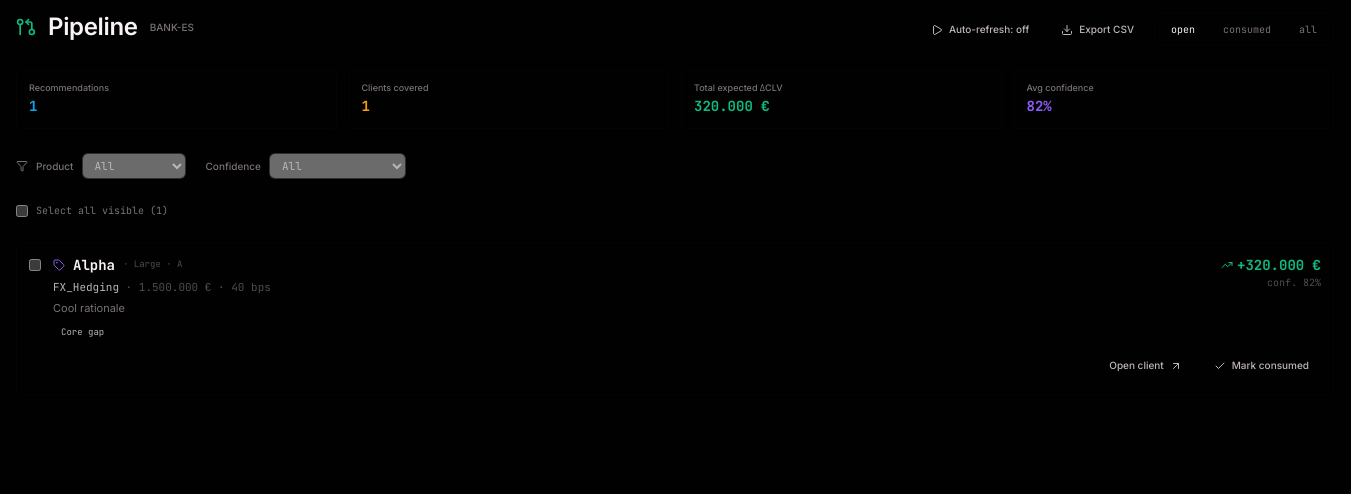
Test: PipelineView › shows bulk action bar when a row is selected, hides it when cleared
The width and height of the screenshot is (1351, 494).
Expected: the text "Alpha" is shown, [73,255,115,275]
Click the checkbox with test id "pipeline-row-select-p-1" at (35, 265), box [29,259,41,271]
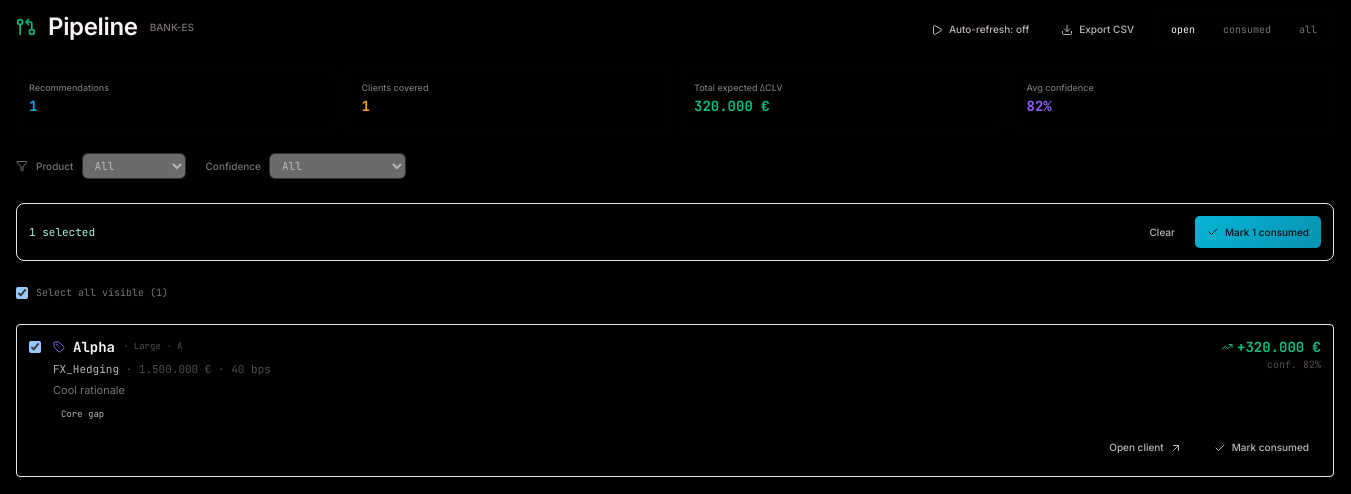
Now the element with test id "pipeline-bulk-bar" is shown, box [16,203,1334,261]
Now the text "1 selected" is shown, box [29,224,95,240]
Click the button with test id "pipeline-bulk-clear" at (1162, 232), box [1138,216,1187,248]
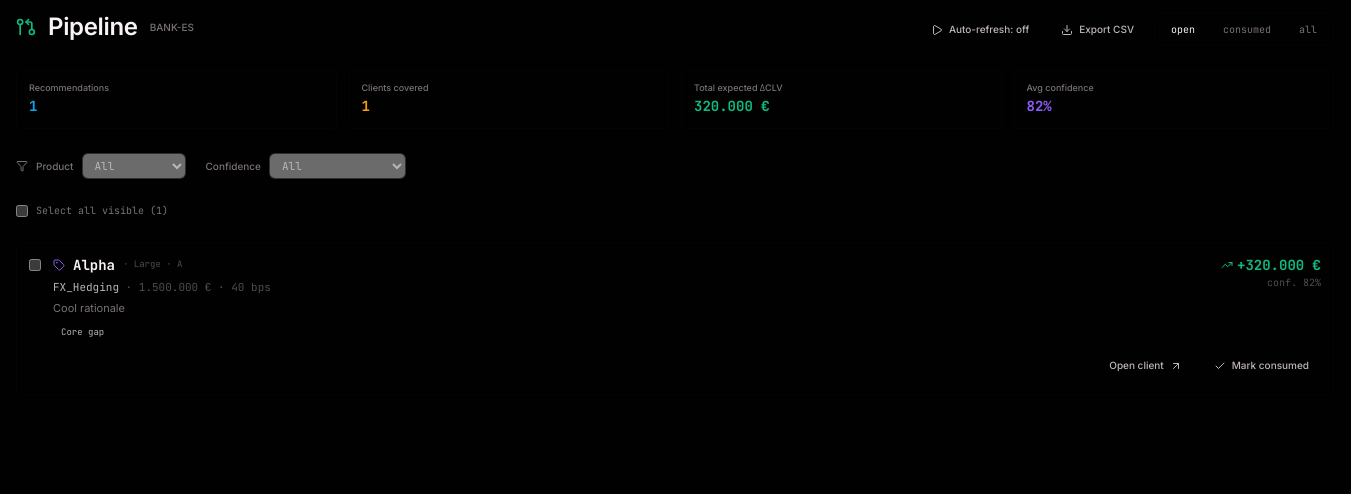
Now the element with test id "pipeline-bulk-bar" is gone
